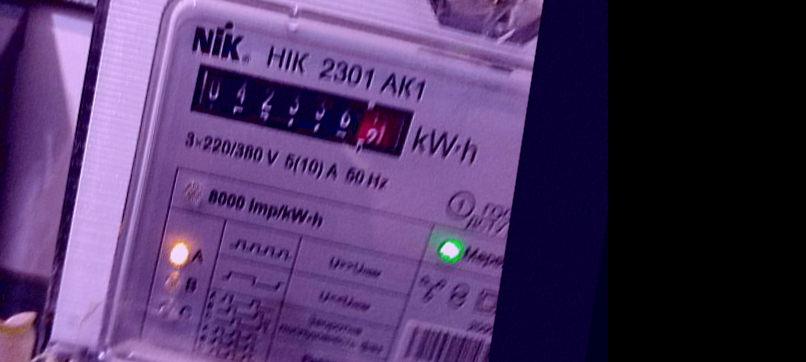0: (206, 73, 223, 104)
2: (258, 83, 280, 112)
3: (284, 87, 304, 118), (313, 92, 331, 122)
4: (232, 78, 252, 107)
6: (337, 102, 356, 131)
screen: (176, 52, 426, 169)
